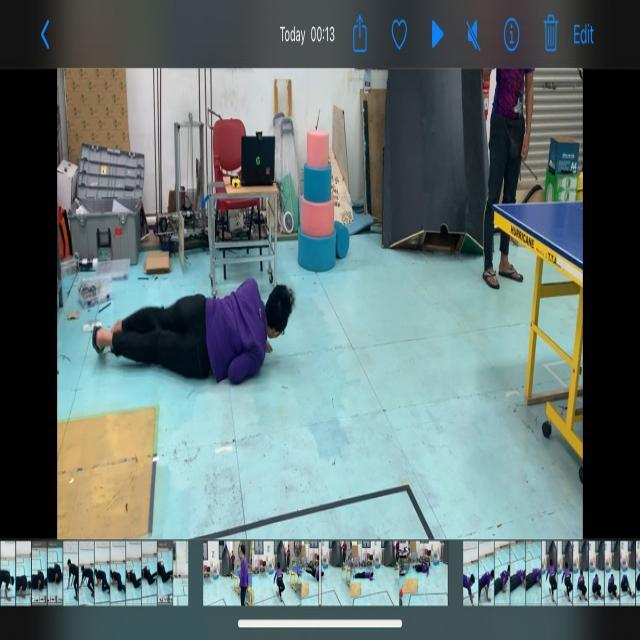fall: (90, 252, 302, 418)
